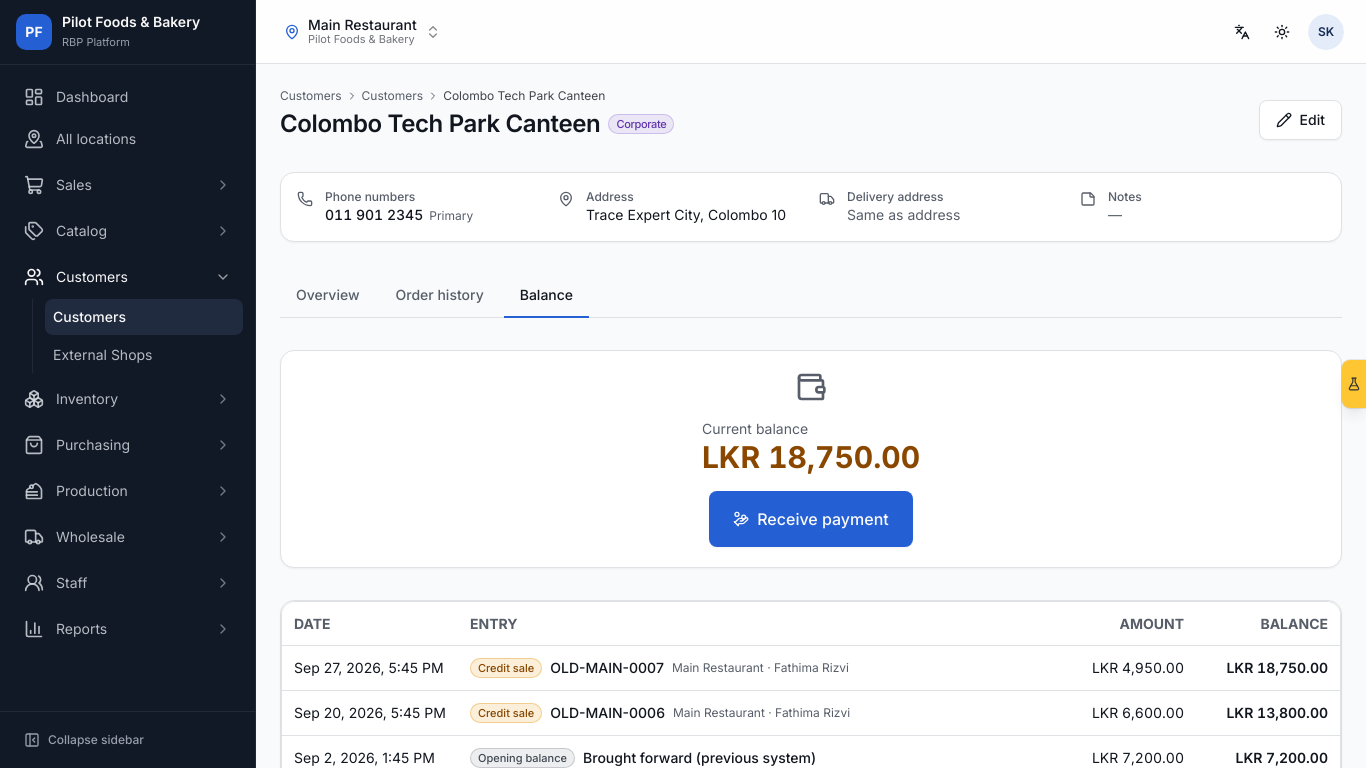
Test case: CUS-005 outstanding balance › shows the statement and takes a payment on account
Expected: the text "Current balance" is shown, [702,420,808,437]
Expected: the text "Brought forward (previous system)" is shown, [583,748,816,767]
Step 1. Click the button "Receive payment" → click(811, 519), box [709,491,913,547]
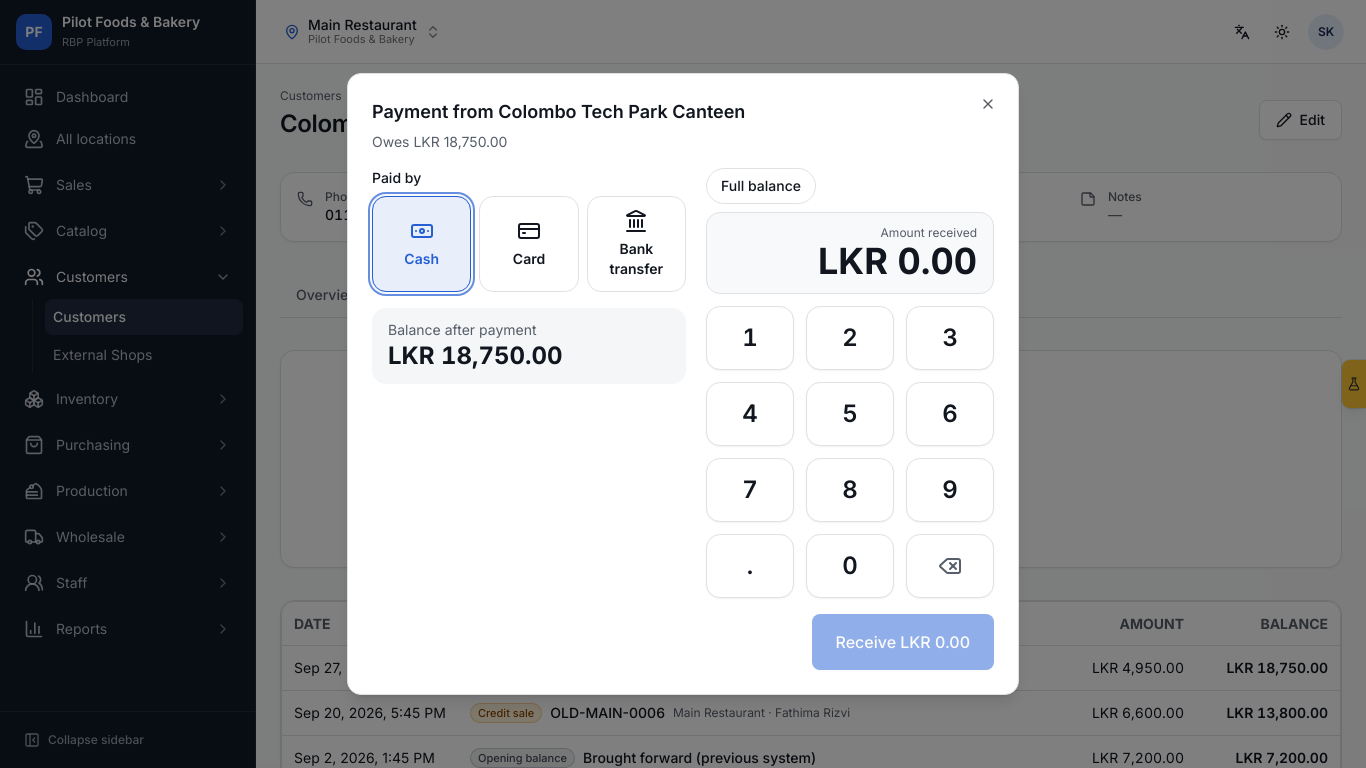
Step 2. Click the button "5" → click(850, 414), box [806,382,894,446]
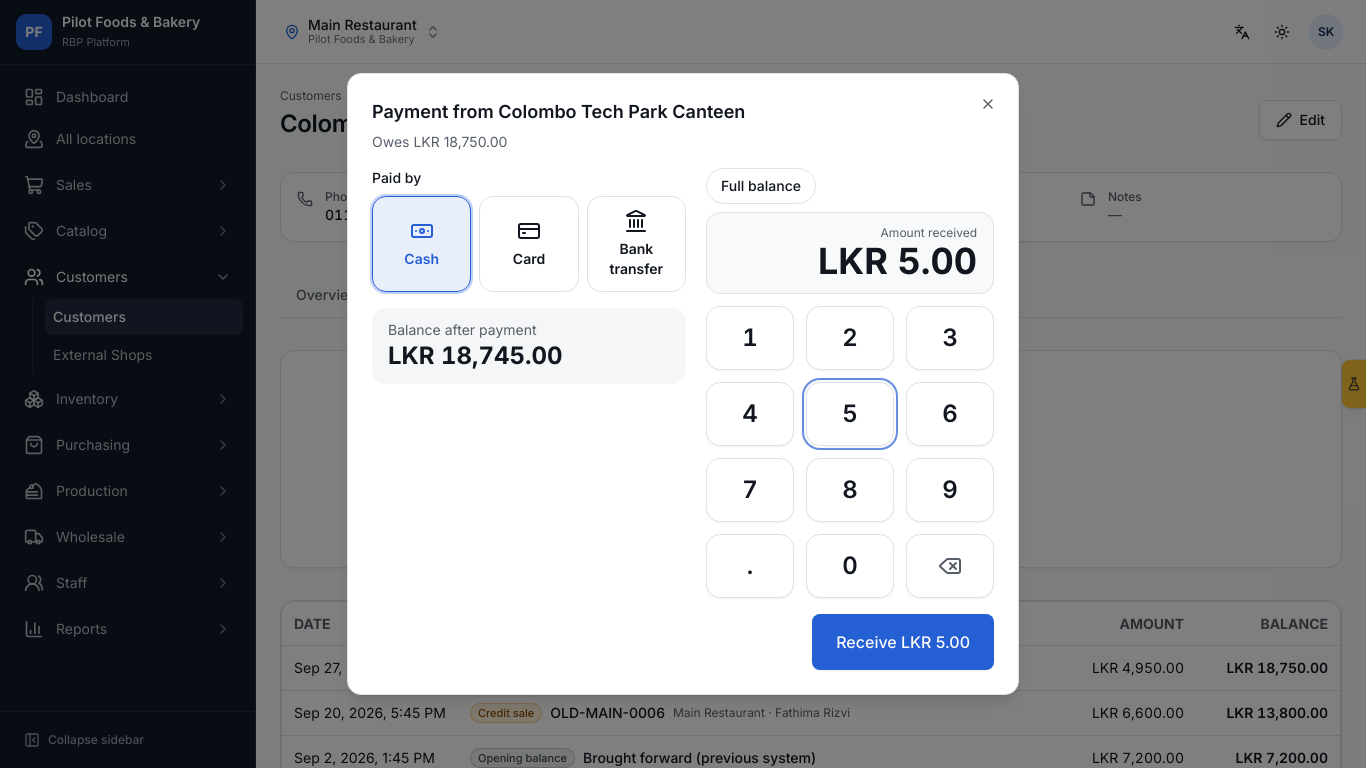
Step 3. Click the button "0" → click(850, 566), box [806,534,894,598]
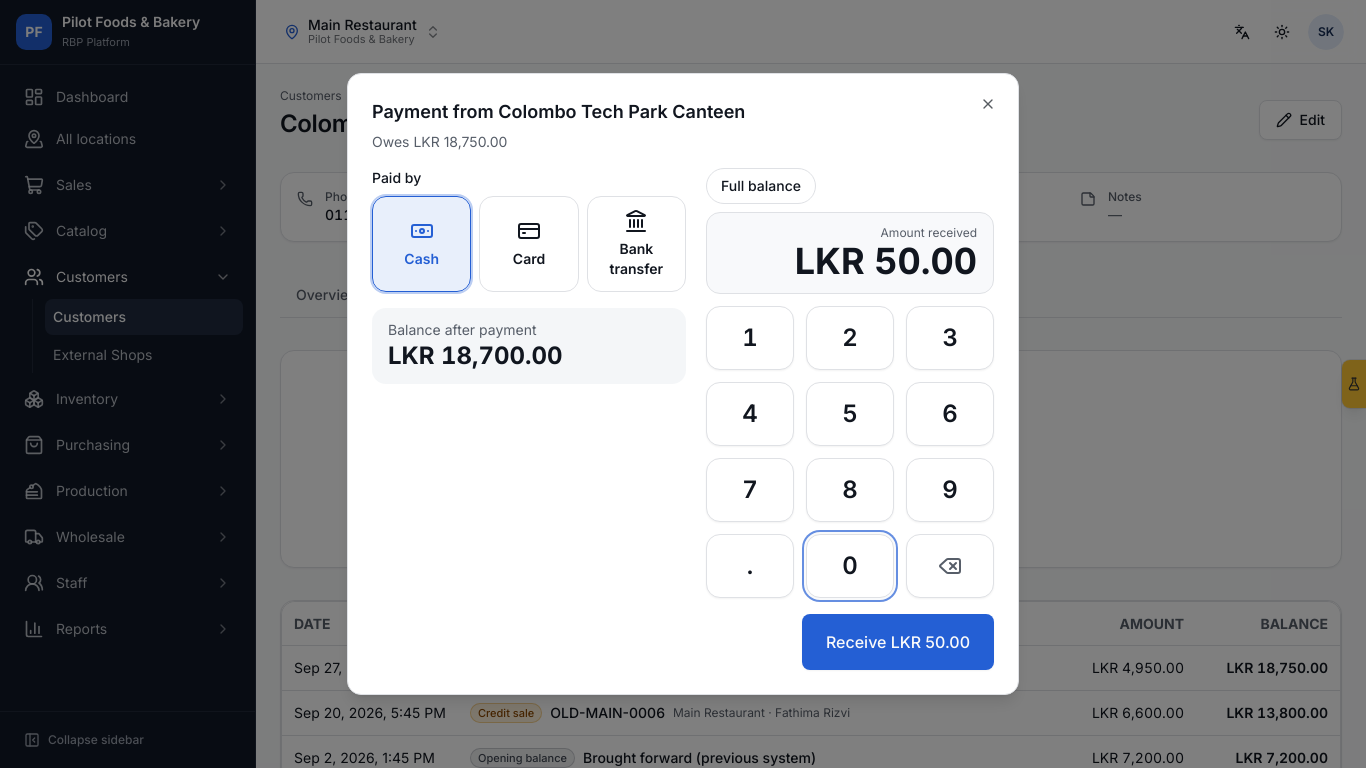
Step 4. Click the button "0" → click(850, 566), box [806,534,894,598]
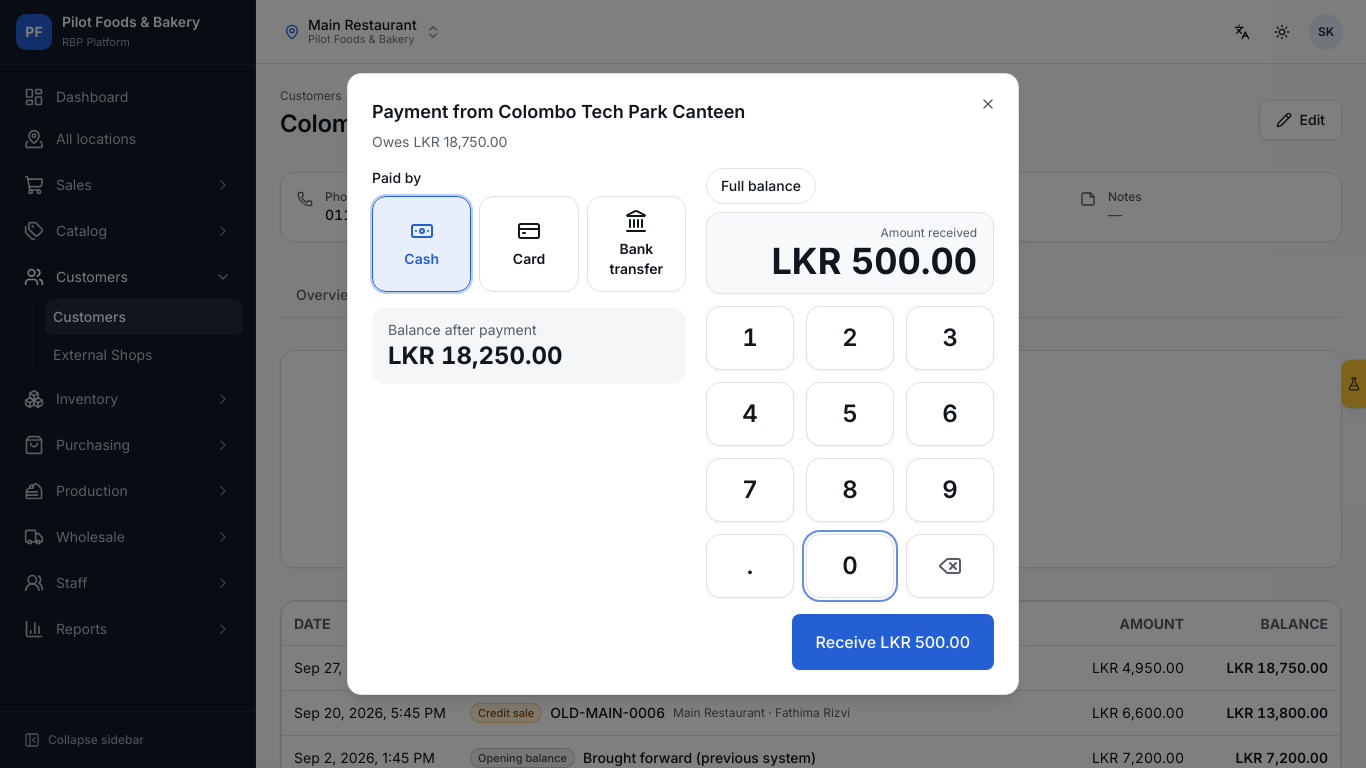
Step 5. Click the button "0" → click(850, 566), box [806,534,894,598]
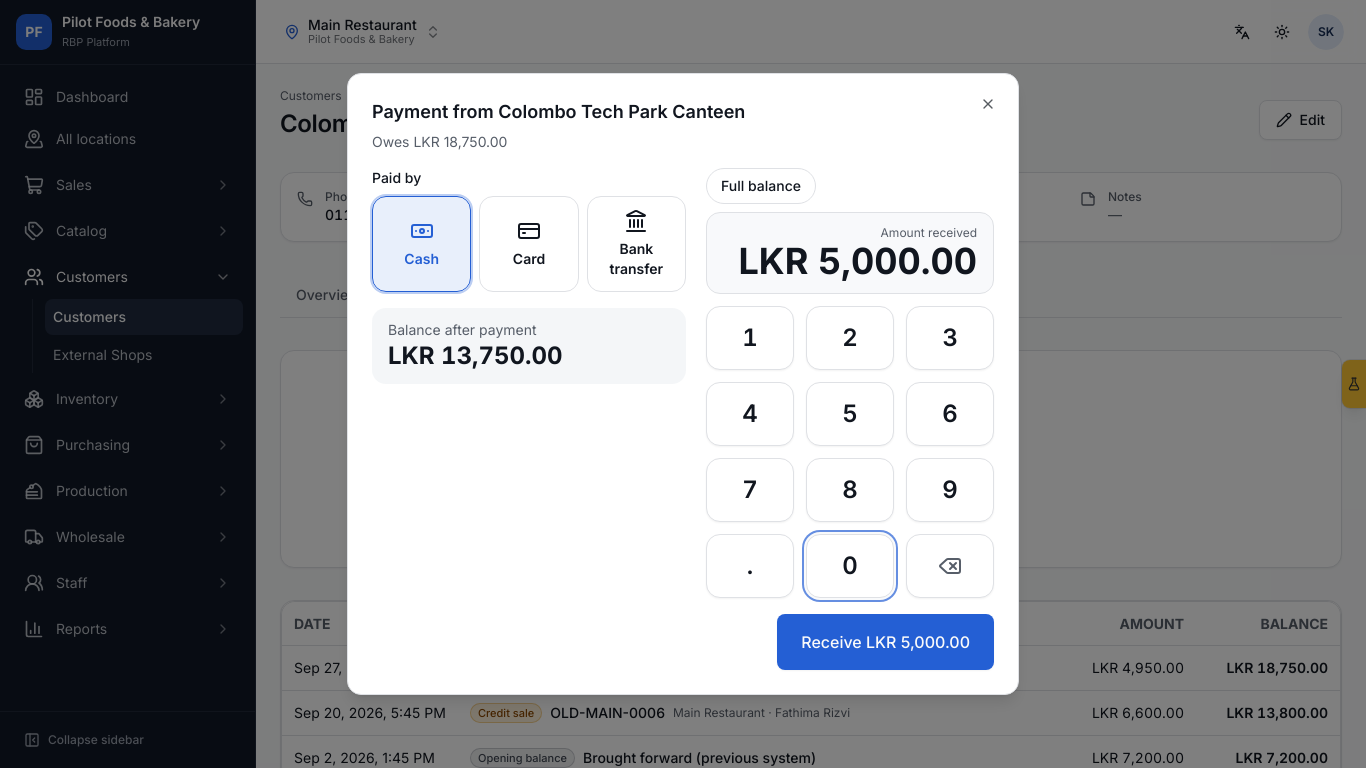
Result: the dialog "Payment from Colombo Tech Park" shows "13,750.00" at [388,341,562,370]
Step 6. Click the button "Receive LKR 5,000.00" → click(886, 642), box [777,614,994,670]
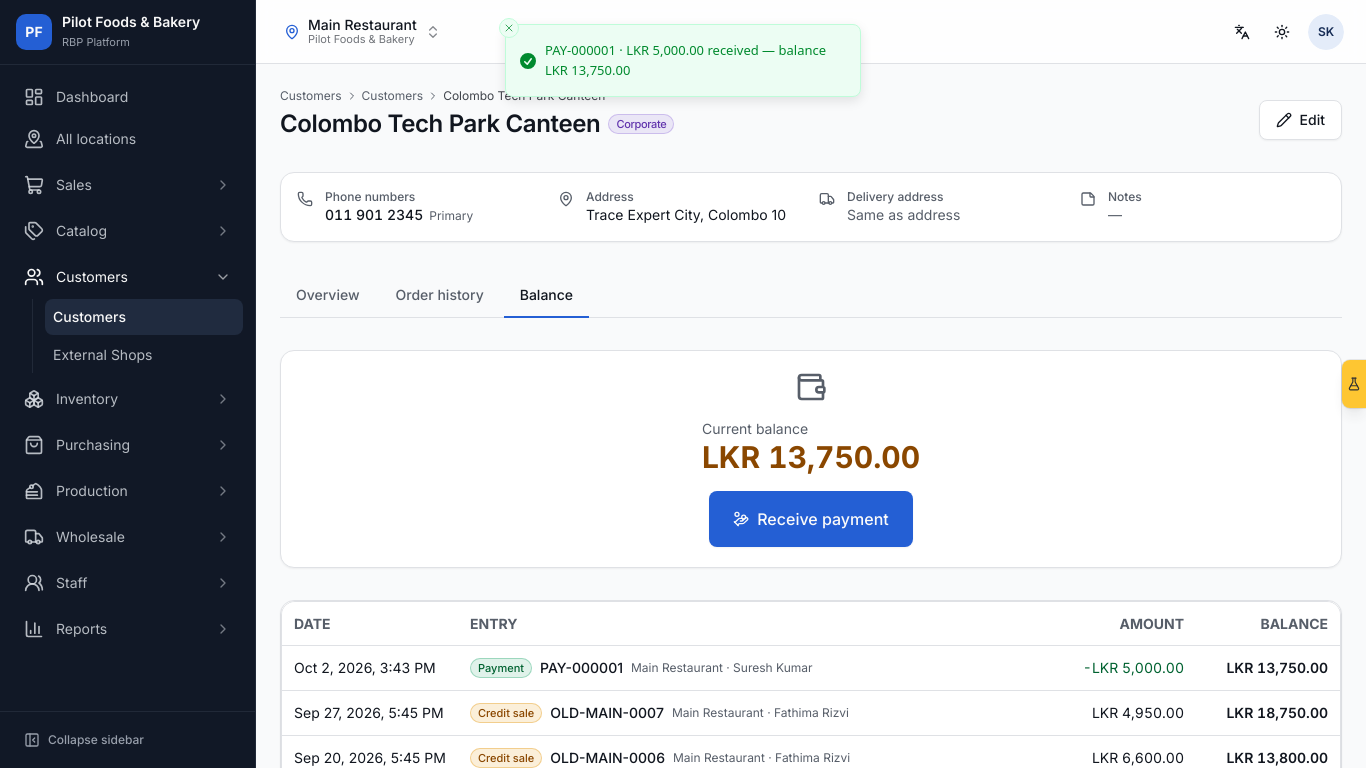
Result: the text "PAY-000001 · LKR 5,000.00 received — balance LKR 13,750.00" is shown at [545,41,844,80]
Result: the text "PAY-000001" is shown at [540,658,623,678]
